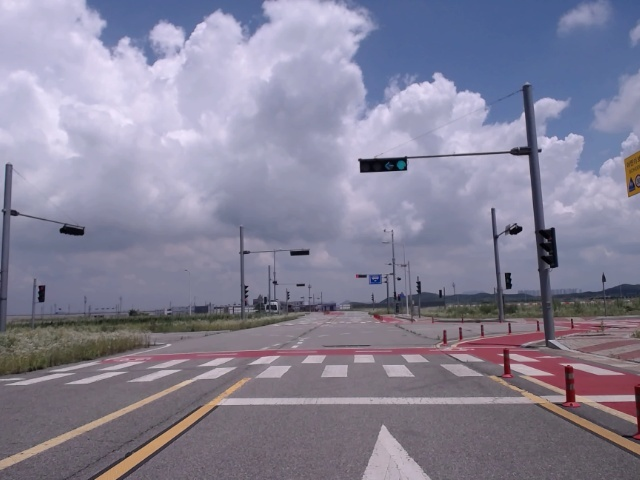all_green_4: (357, 156, 414, 171)
